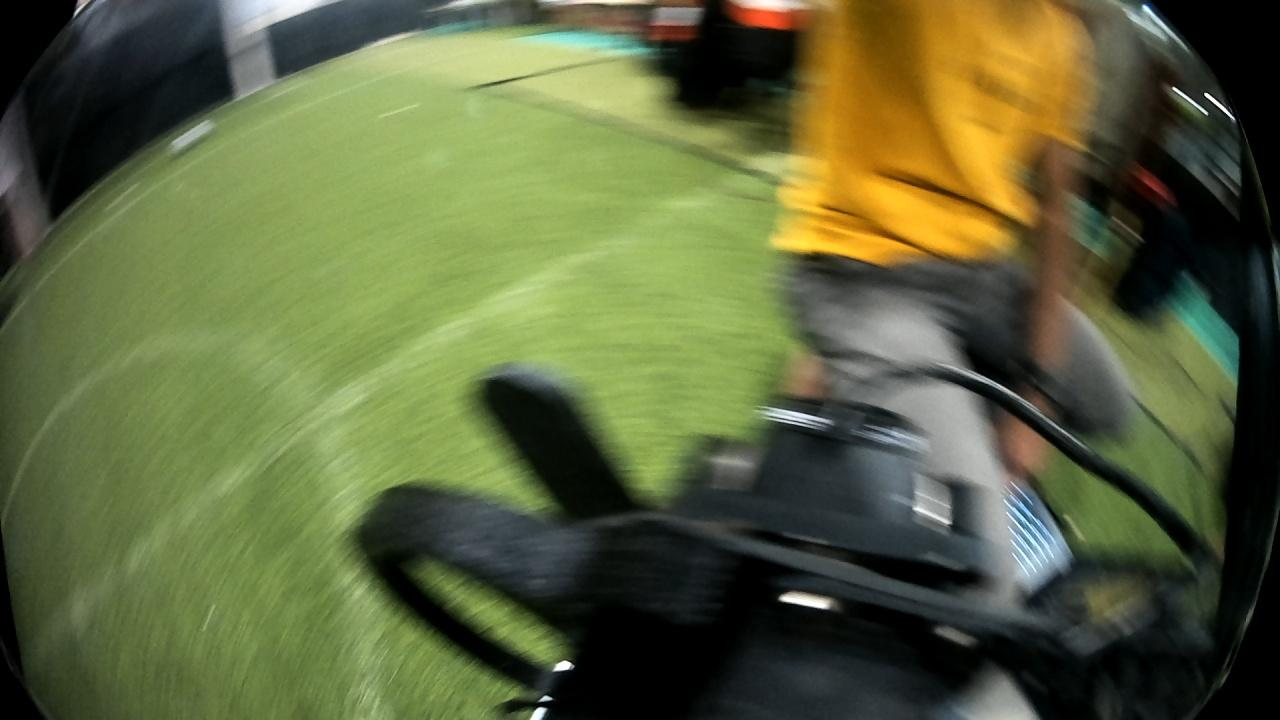ball: (163, 116, 214, 163)
